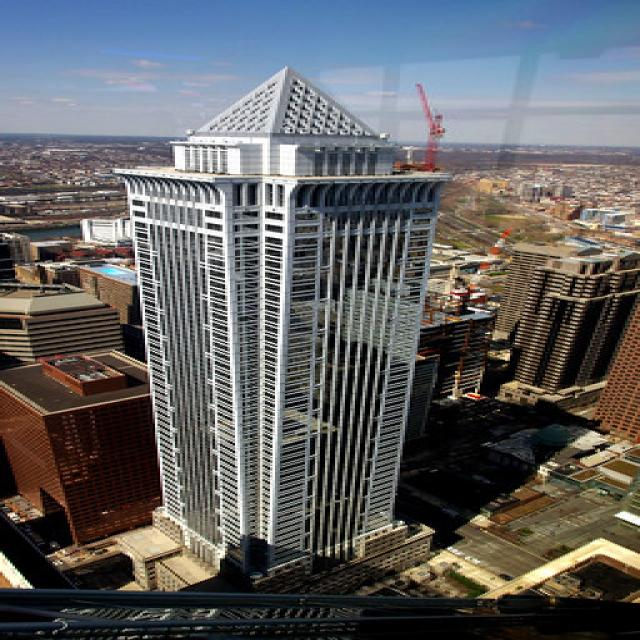Normal_building: (111, 59, 456, 587)
